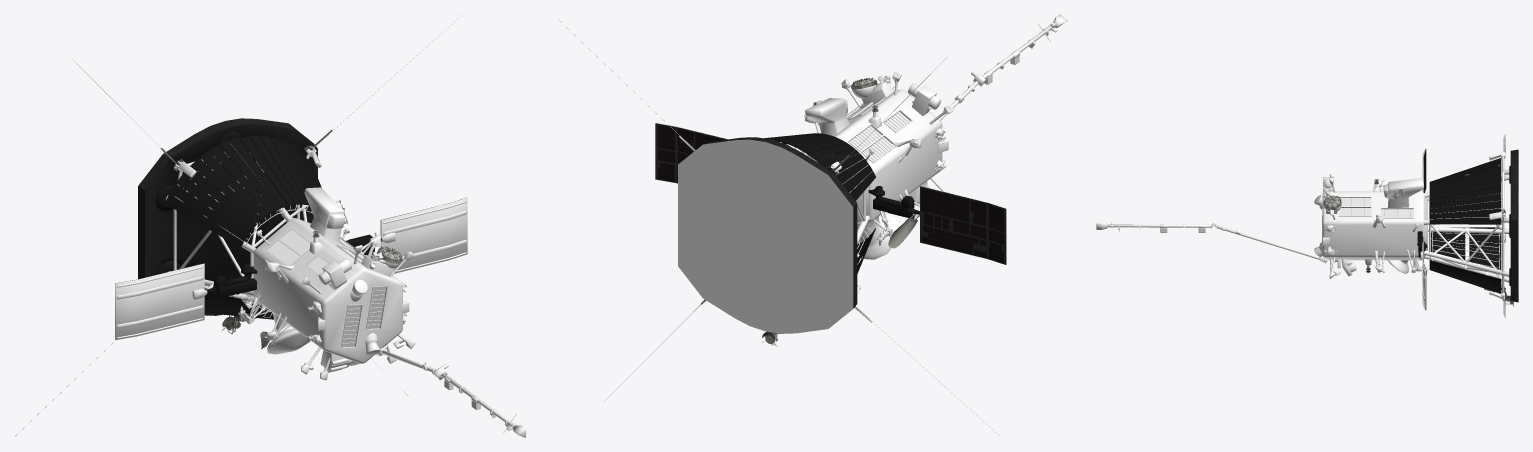
File: parker.glb
3 views of the same model, side by side, from view 1: azimuth 30°, elevation 25°; view 2: azimuth 150°, elevation 25°; view 3: azimuth 270°, elevation 25° (orthographic). The views are drawn at different scales.
Visible parts, largest first — view 1: BUS, CoolingSystem, Instruments, magnetometers, solarArray_arms, HGA; view 2: Instruments, BUS, CoolingSystem, magnetometers, solarArray_arms; view 3: BUS, CoolingSystem, Instruments, magnetometers.
Boxes of the visible parts, box(x1,y1,x2,y2) form: BUS: box(115, 143, 526, 437); CoolingSystem: box(156, 131, 321, 319); Instruments: box(115, 118, 466, 348); magnetometers: box(14, 14, 516, 436); solarArray_arms: box(206, 234, 381, 297); HGA: box(267, 331, 310, 354); Instruments: box(655, 77, 1006, 346); BUS: box(656, 14, 1067, 294); CoolingSystem: box(764, 133, 875, 273); magnetometers: box(556, 17, 1050, 437); solarArray_arms: box(868, 186, 919, 217); BUS: box(1096, 148, 1509, 310); CoolingSystem: box(1429, 158, 1510, 293); Instruments: box(1323, 134, 1518, 317); magnetometers: box(1118, 165, 1511, 304).
Size of the model in its own units: 5.75 by 5.26 by 6.61.
7 materials, 2 textured.
